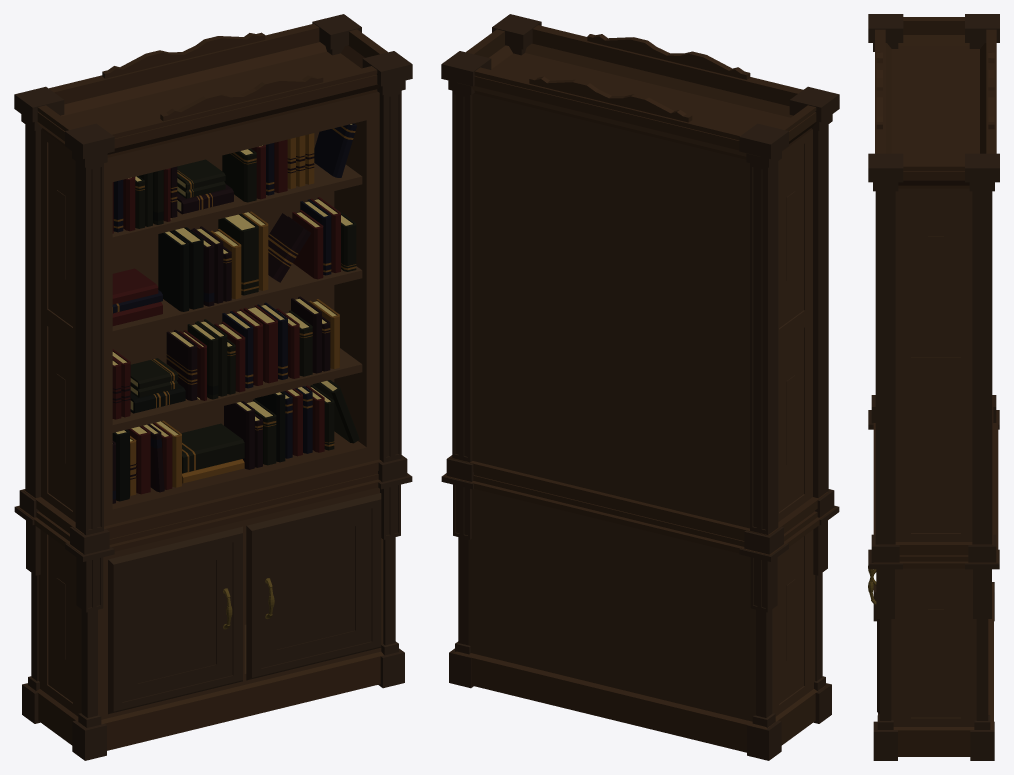
File: Bookcase_Books1.obj
3 renders of one model, left to right at view 1: azimuth 30°, elevation 25°; view 2: azimuth 150°, elevation 25°; view 3: azimuth 270°, elevation 25°, orthographic. The views are drawn at different scales.
Parts seen in each view (by area): view 1: BookCase_Single_Cube, BookCase_RightDoor_Cube.005, BookCase_LeftDoor_Cube.001; view 2: BookCase_Single_Cube; view 3: BookCase_Single_Cube, BookCase_RightDoor_Cube.005.
Part boxes in pixels (<box>): BookCase_Single_Cube: <box>14,14,412,760</box>; BookCase_RightDoor_Cube.005: <box>246,493,381,680</box>; BookCase_LeftDoor_Cube.001: <box>108,526,242,714</box>; BookCase_Single_Cube: <box>441,14,839,760</box>; BookCase_Single_Cube: <box>868,14,999,760</box>; BookCase_RightDoor_Cube.005: <box>868,569,879,714</box>.
Size of the model in its own units: 1.47 by 2.7 by 0.532.
